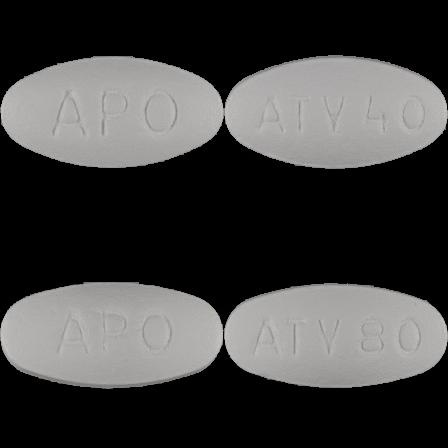60429-325: (0, 0, 224, 224)
